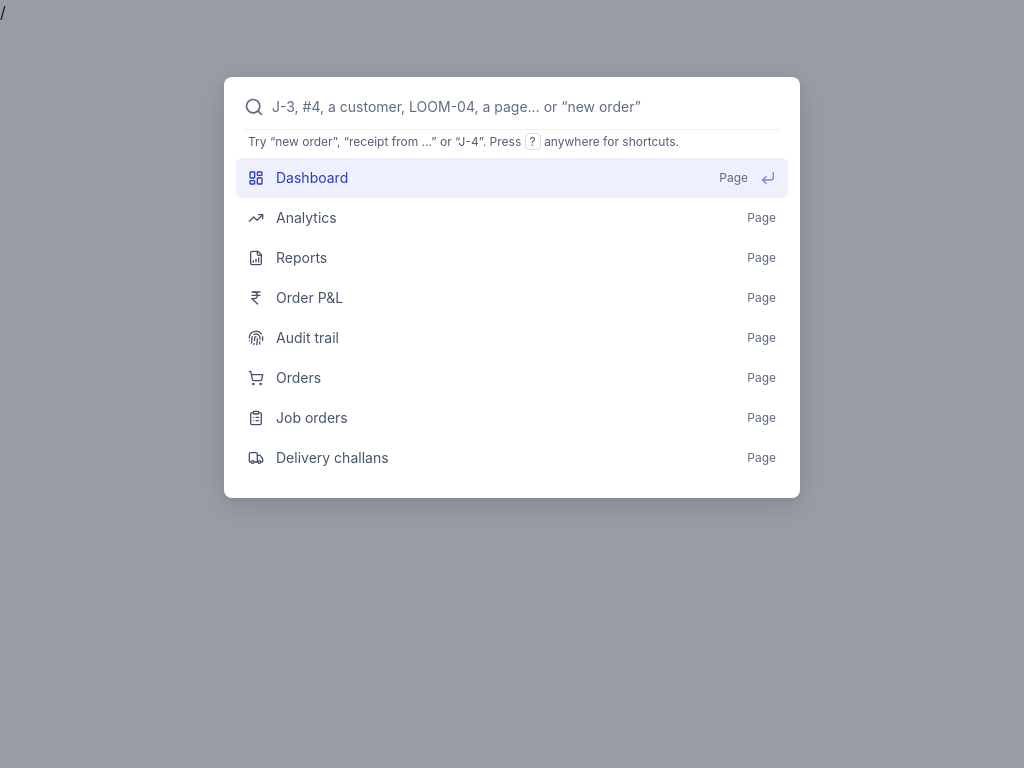
actions in search › “new order” opens the order form
The width and height of the screenshot is (1024, 768).
In the field named "Search everything": (526, 107) [272,97,780,117], type "new order"
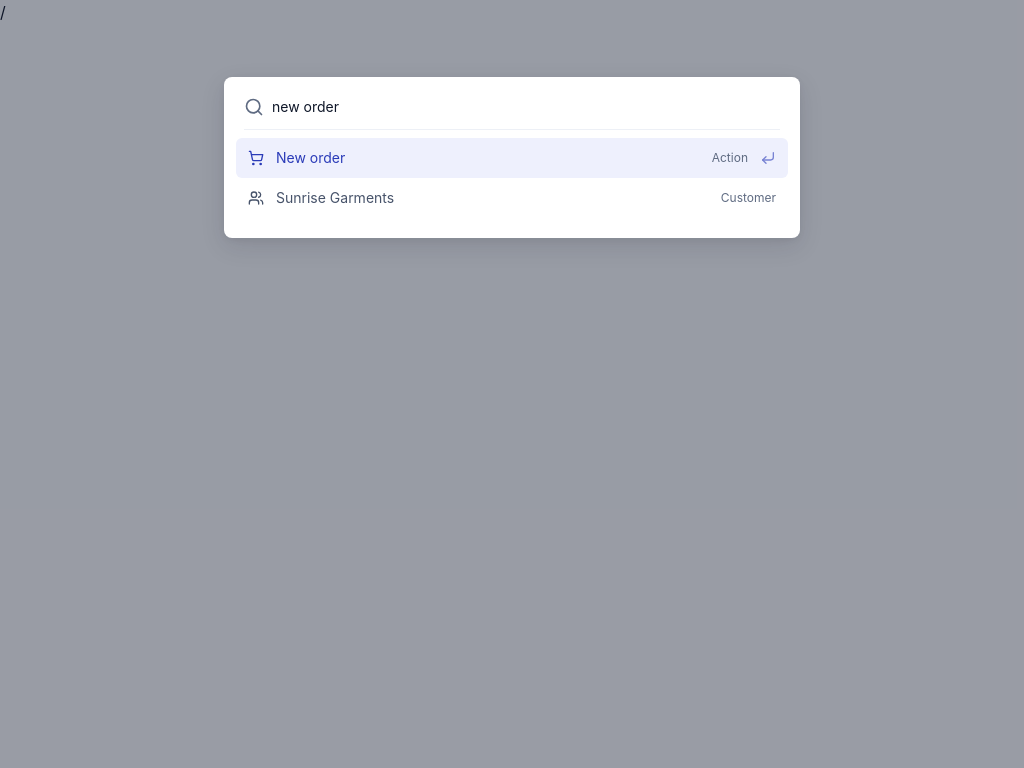
Check: the button "New order Action" is shown, box [236,138,788,178]
Press Enter
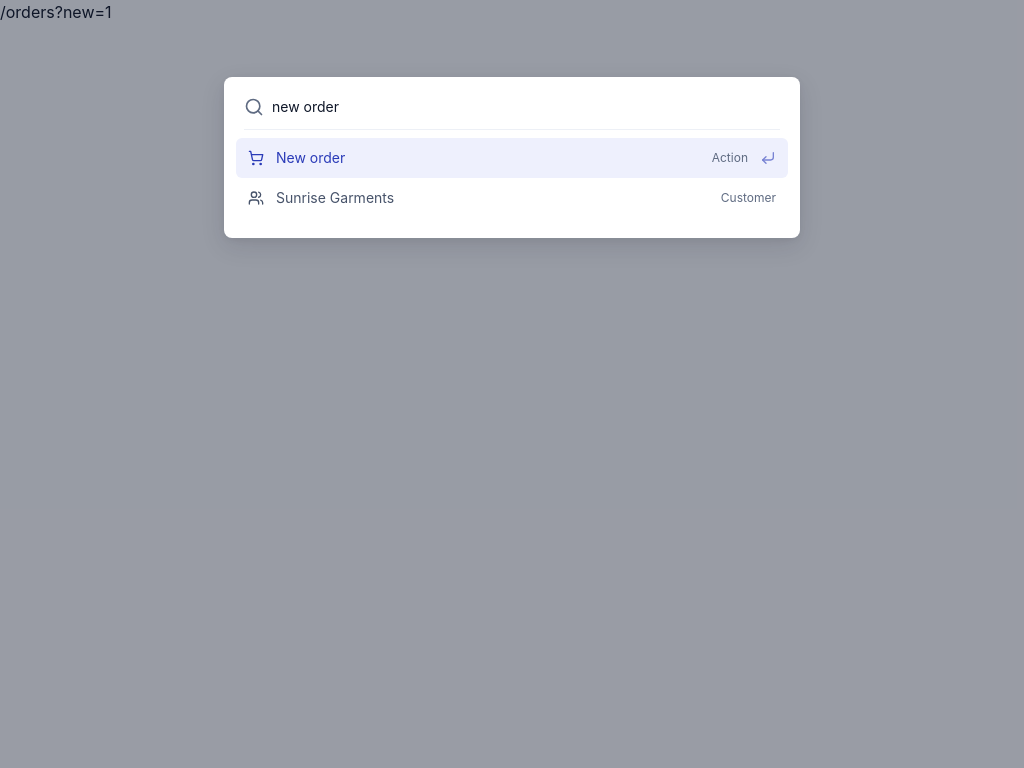
Check: the text with test id "where" reads "/orders?new=1", box [0,2,112,22]
